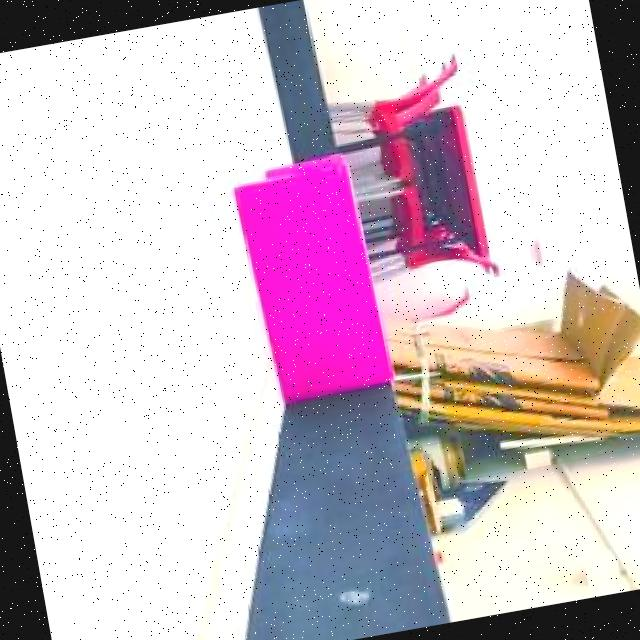xparking: (231, 150, 396, 402)
